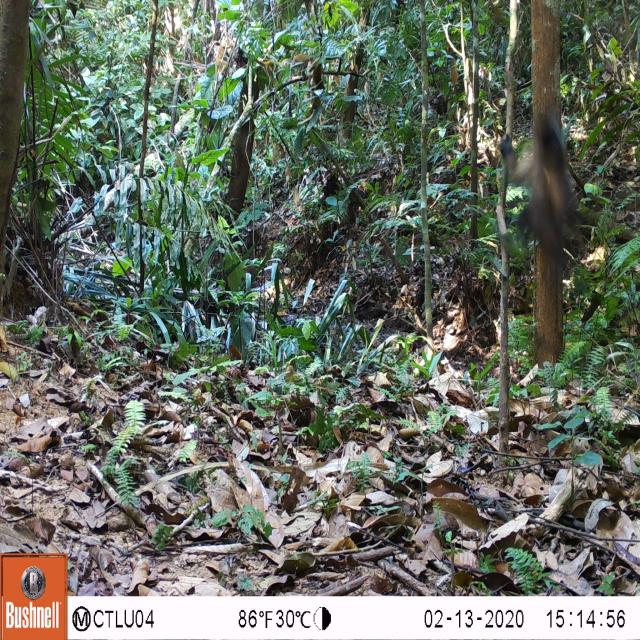Margarita Island Capuchin: (497, 112, 581, 272)
